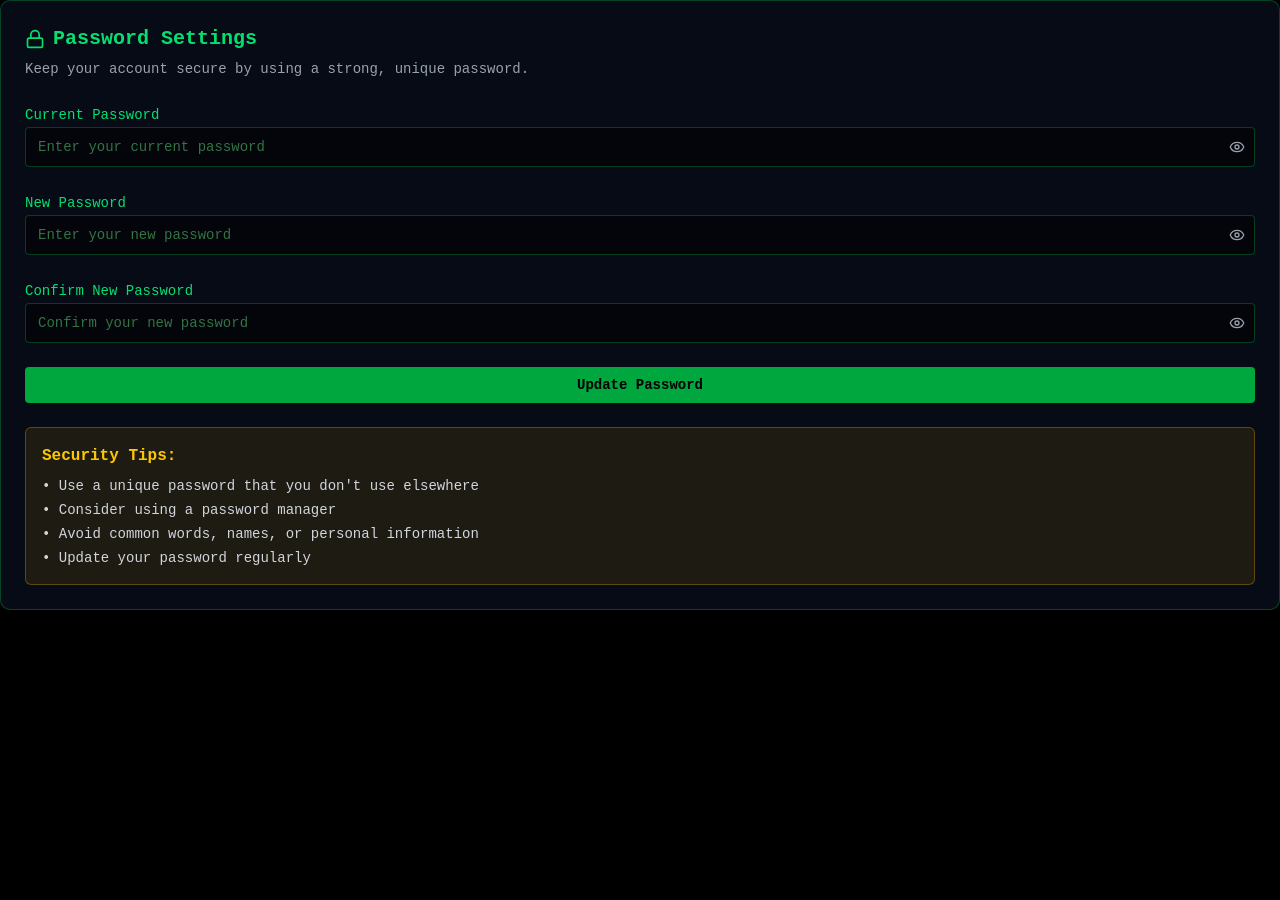
Test: PasswordSettings › displays error when passwords do not match
In the password field labelled "Current Password": (640, 147) top-left (25, 127), bottom-right (1255, 167), type "CurrentPass123!"
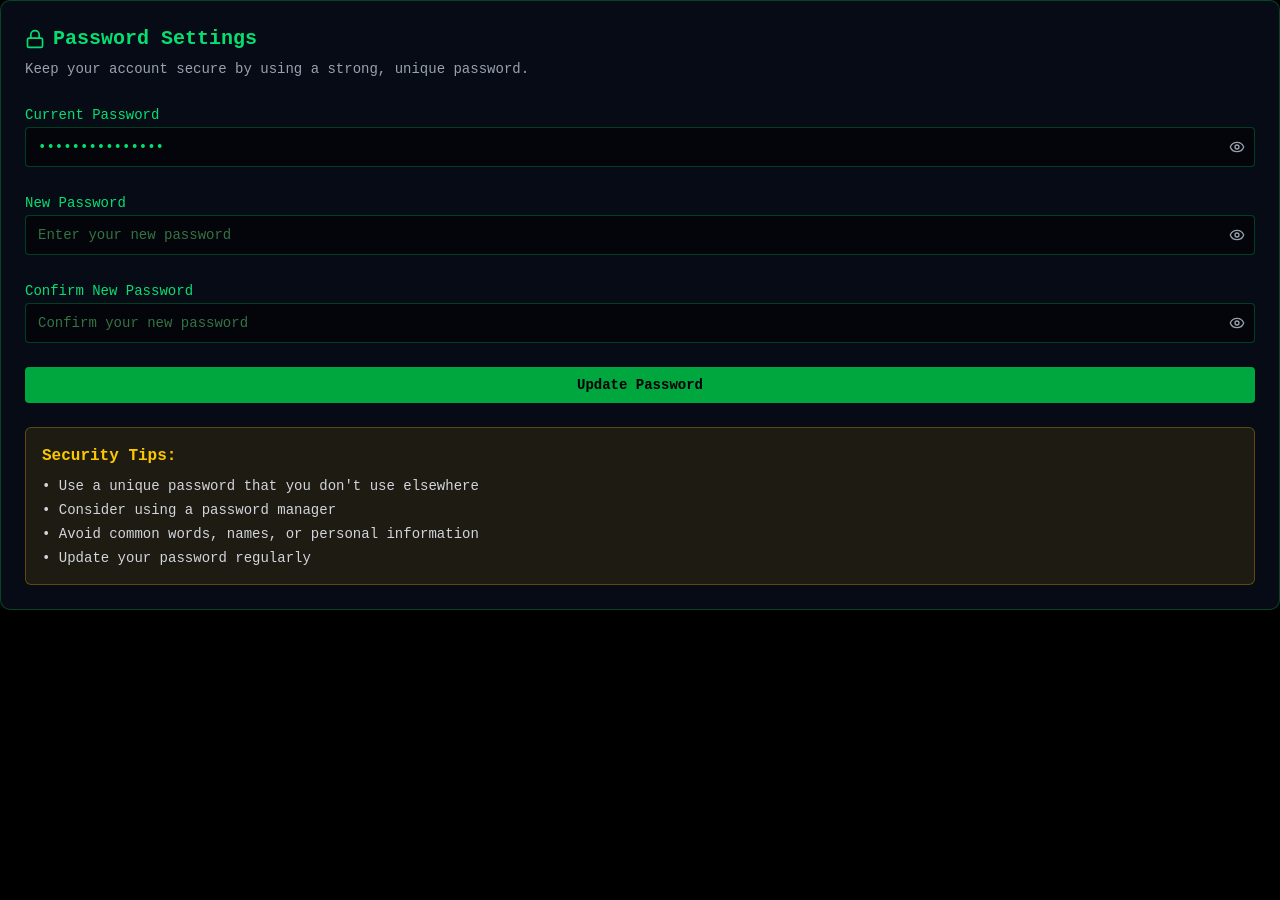
In the password field labelled "New Password": (640, 235) top-left (25, 215), bottom-right (1255, 255), type "NewPassword456!"
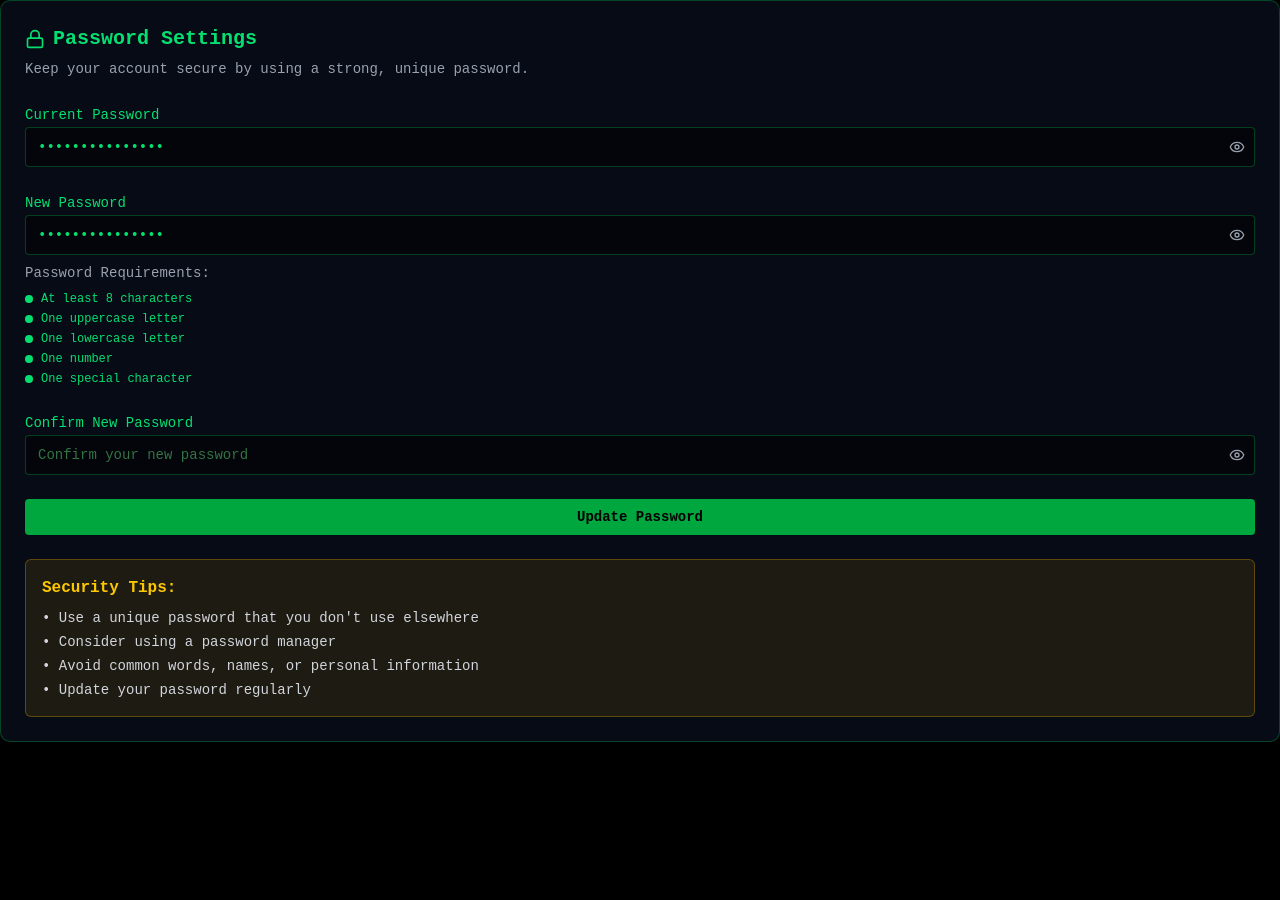
In the password field labelled "Confirm New Password": (640, 455) top-left (25, 435), bottom-right (1255, 475), type "DifferentPass789!"
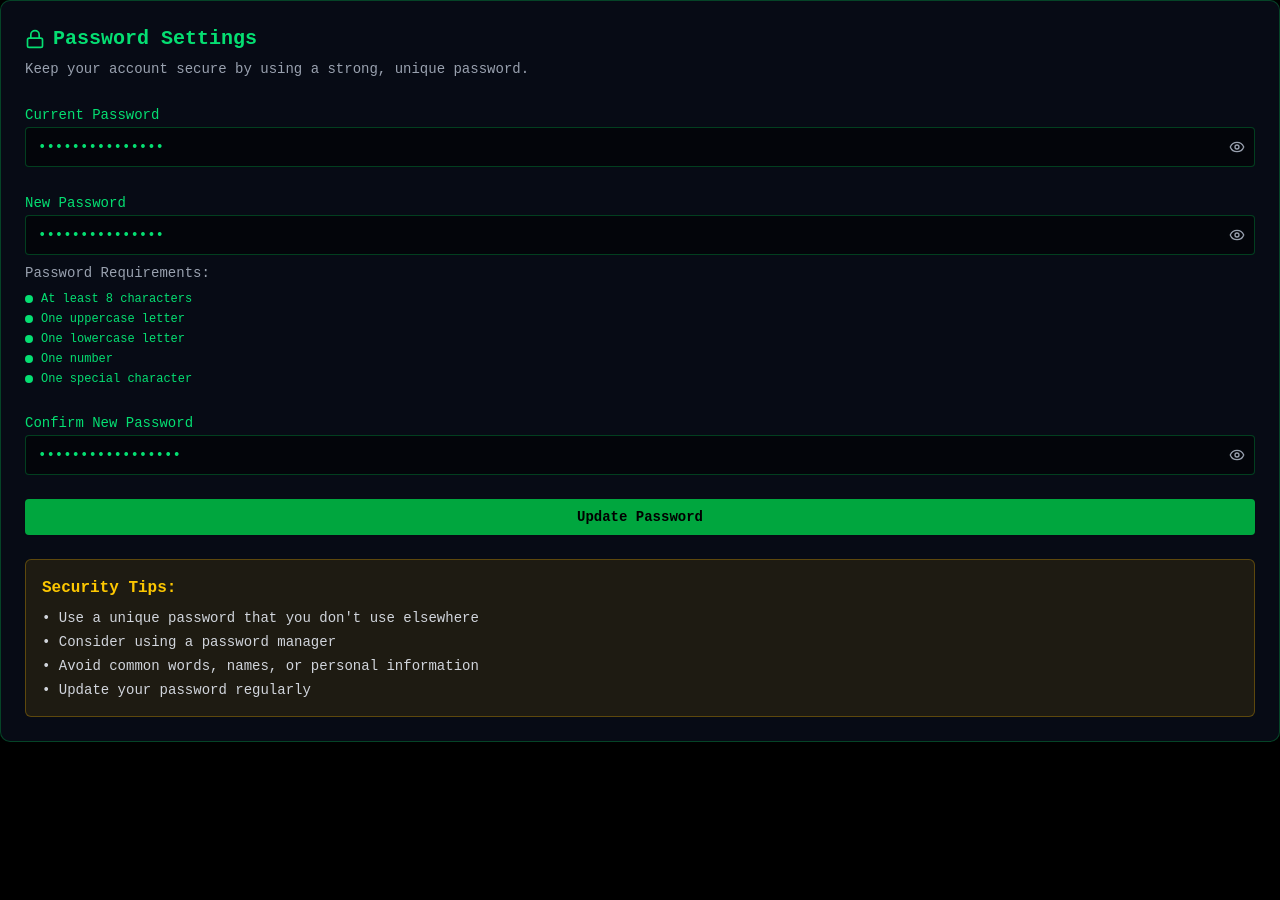
Click the button "Update Password": (640, 517) top-left (25, 499), bottom-right (1255, 535)
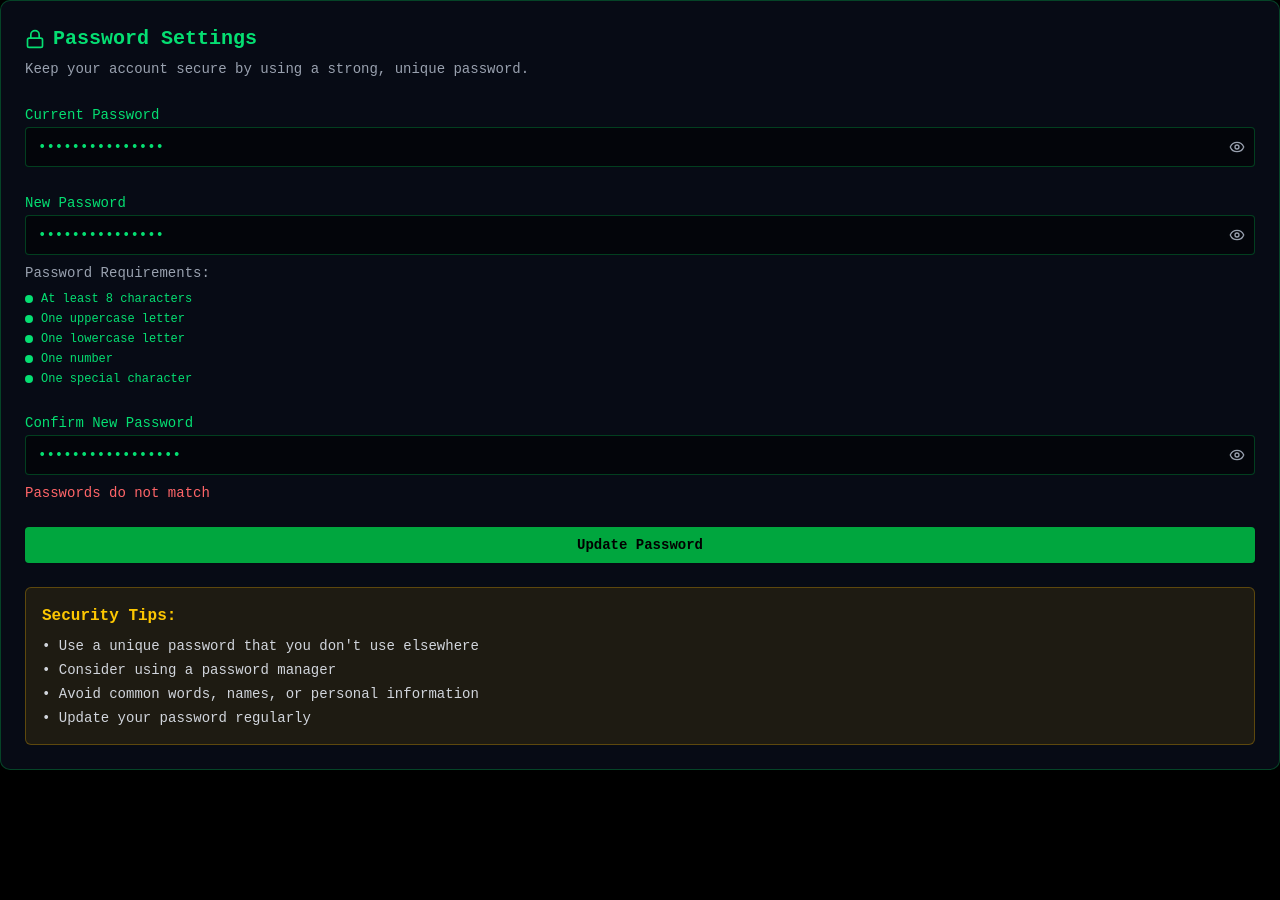
Check: the text "Passwords do not match" is shown, box top-left (25, 485), bottom-right (210, 501)
